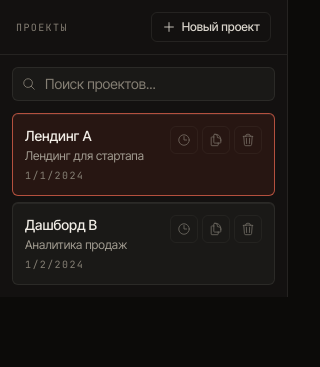
Test: ProjectSidebar › shows "Версий пока нет" when a project has no versions
The width and height of the screenshot is (320, 367).
Expected: the text "Лендинг A" is shown, 25,127 -> 92,144
Click the 1st button named "Версии проекта" at (184, 140), box 170,126 -> 198,154
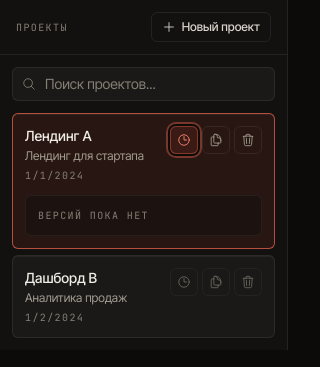
Now the text "Версий пока нет" is shown, box 38,209 -> 149,222
